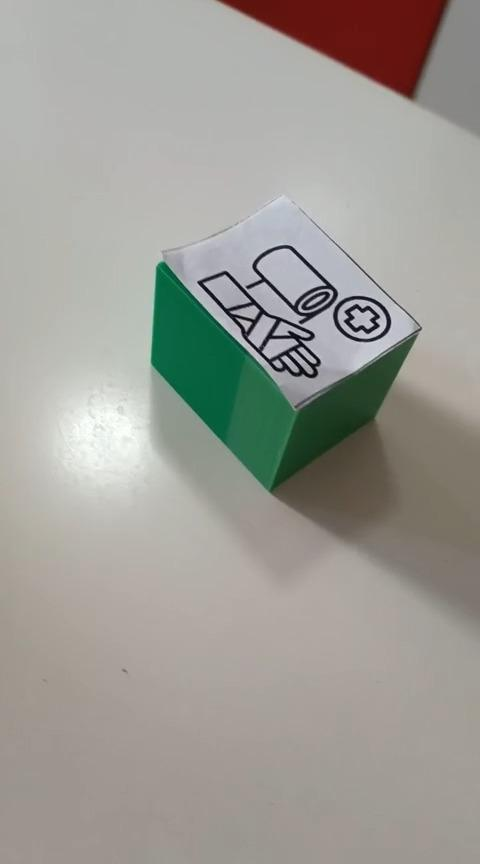Bandages: (149, 192, 422, 493)
